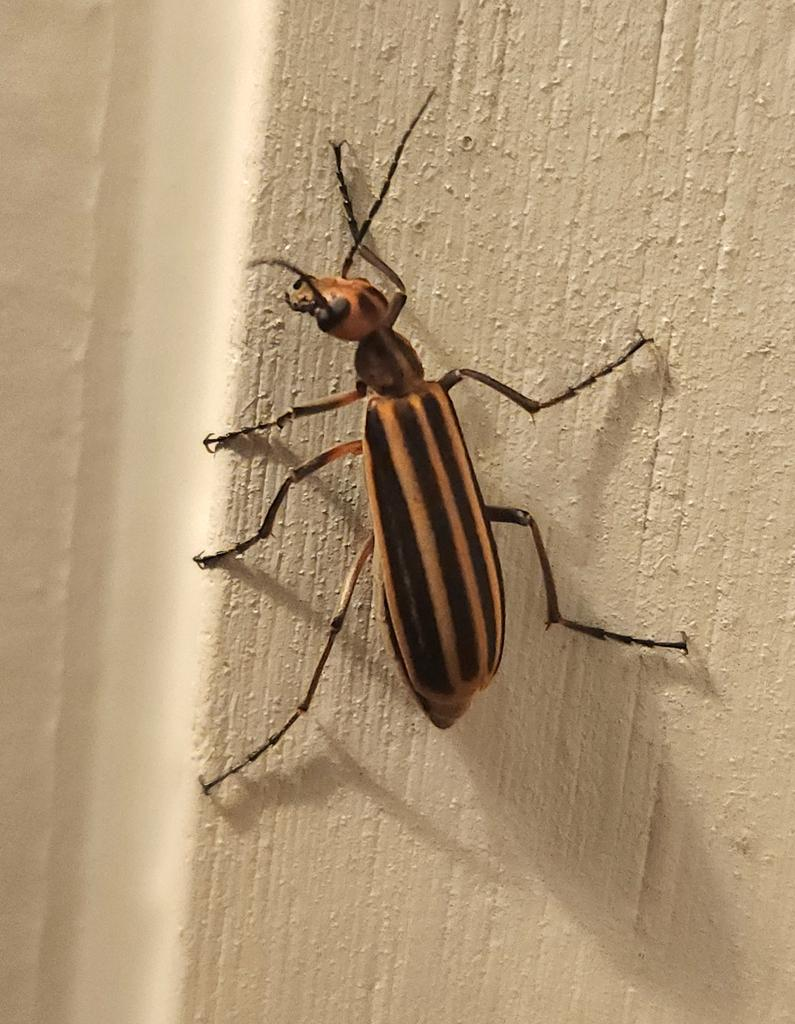blister_beetle: (103, 24, 792, 893)
